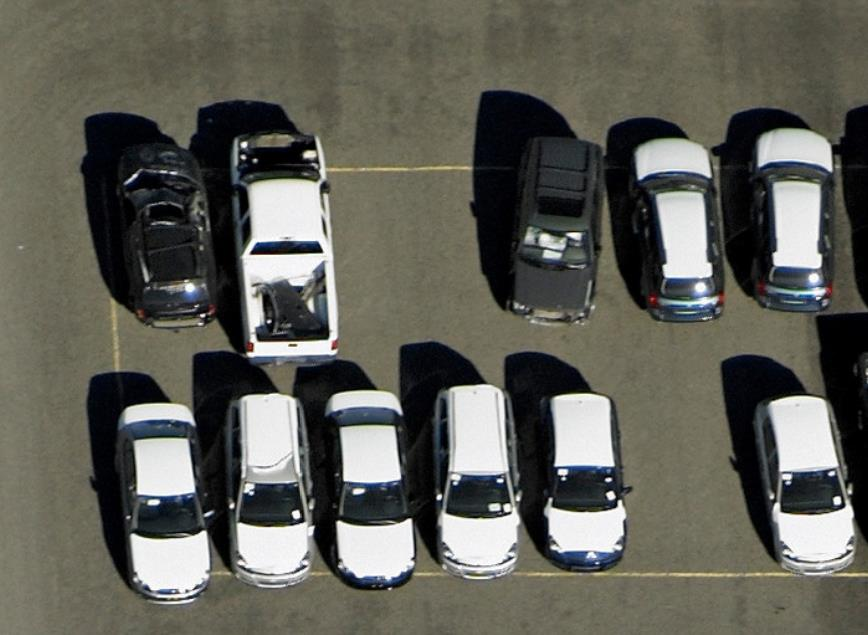car: (219, 129, 351, 365), (749, 390, 868, 580), (111, 397, 215, 609), (106, 140, 220, 331), (217, 392, 328, 588), (323, 387, 421, 593), (627, 133, 731, 324), (500, 137, 605, 326), (741, 125, 841, 314), (430, 382, 524, 580), (538, 388, 633, 572)
